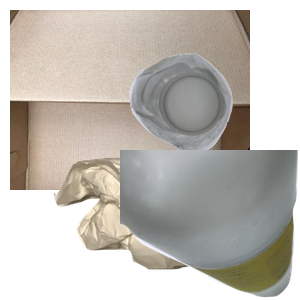cardboard: (10, 10, 250, 190)
glass: (120, 150, 300, 300)
plastic: (127, 51, 300, 197)
trash: (51, 155, 261, 300)
